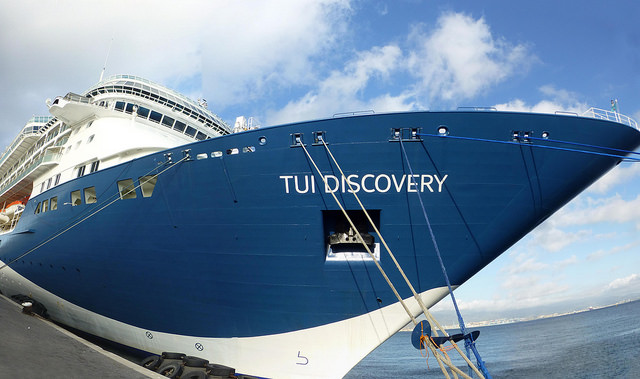cruise_ship: (1, 58, 640, 372)
